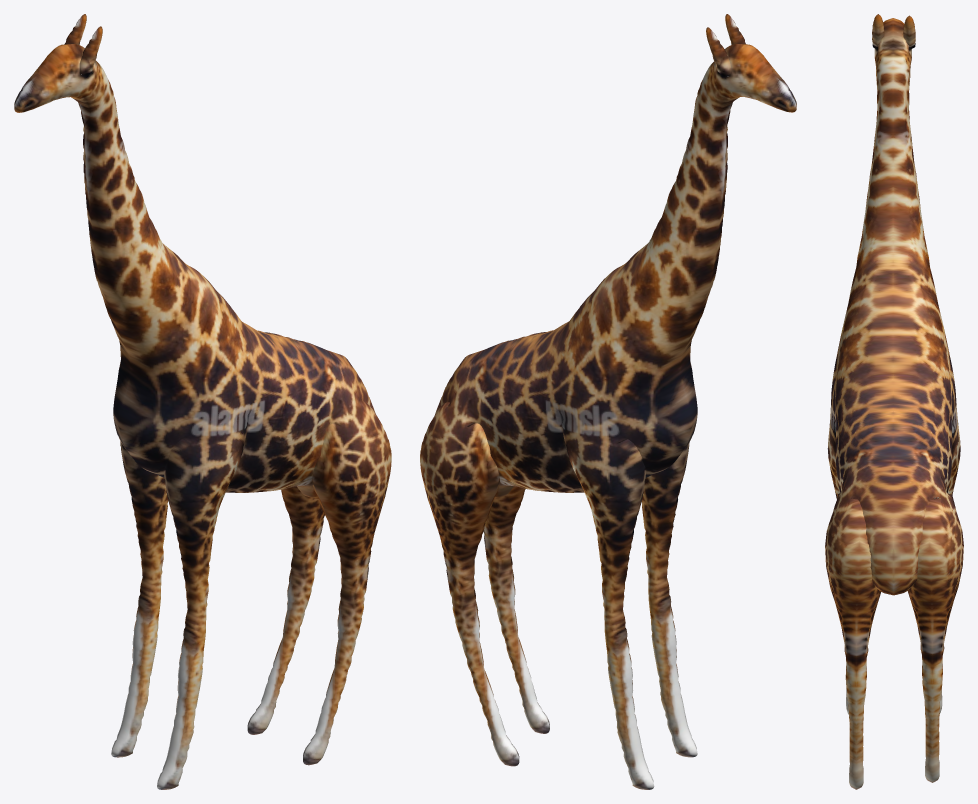
3 renders of one model, left to right at view 1: azimuth 30°, elevation 25°; view 2: azimuth 150°, elevation 25°; view 3: azimuth 270°, elevation 25°, orthographic. The views are drawn at different scales.
Size of the model in its own units: 3.18 by 6.59 by 1.21.
1 material, 1 textured.
